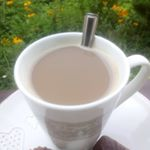cups: (11, 29, 150, 149)
